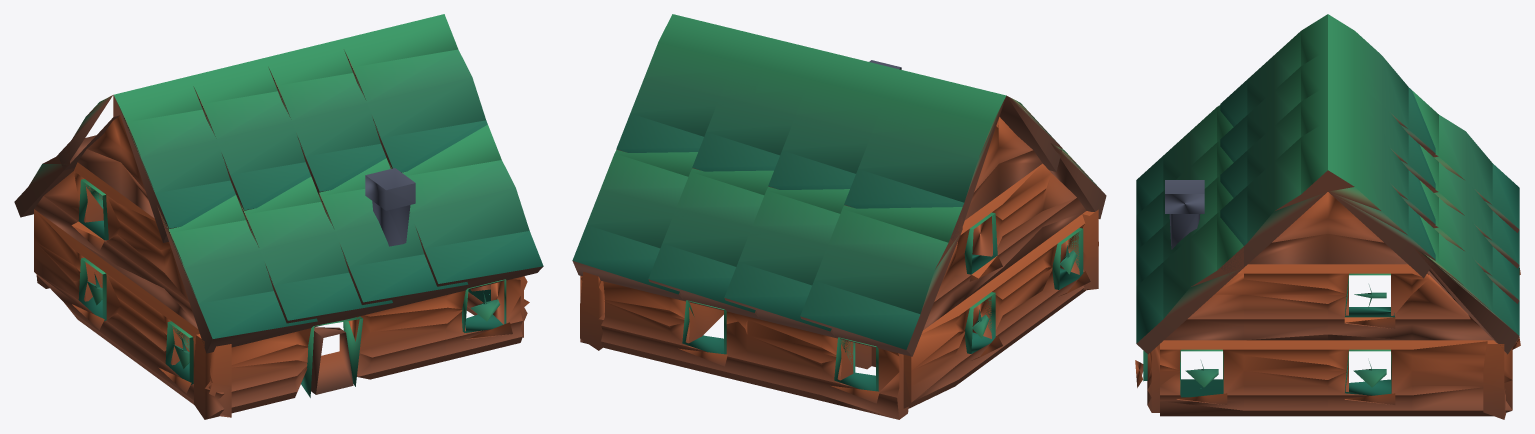
Rendered from rn_cabin.glb.
The picture shows the model from 3 angles, left to right: view 1: azimuth 30°, elevation 25°; view 2: azimuth 150°, elevation 25°; view 3: azimuth 270°, elevation 25°; orthographic projection. The views are drawn at different scales.
Visible parts, largest first — view 1: rn_cabin; view 2: rn_cabin; view 3: rn_cabin.
Part boxes in pixels (x1,y1,x2,y2): rn_cabin: (14, 14, 543, 419); rn_cabin: (572, 14, 1106, 419); rn_cabin: (1135, 14, 1520, 419).
Size of the model in its own units: 11.94 by 8.53 by 11.94.
